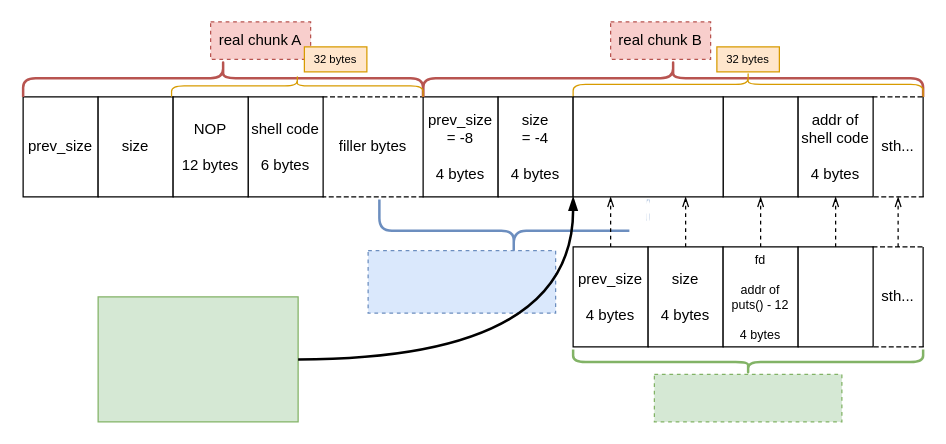
Image size: 946x444. Some labels were removed from this diagram. Here are the shapes that lost their labels. From the top down, the box of each, then its label:
(572, 96, 723, 197): useless 8 bytes fill with deadbeef * 2
(722, 96, 798, 197): addr of puts() - 12 4 bytes
(367, 249, 556, 313): fake chunk as B's next chunk but we dont care
(797, 246, 873, 347): bk addr of shell code 4 bytes
(97, 296, 298, 422): chunkB->bk ↓ chunkB - prev_size ↓ chunkB - (-8)
(653, 373, 842, 422): fake chunk P as B's previous chunk
